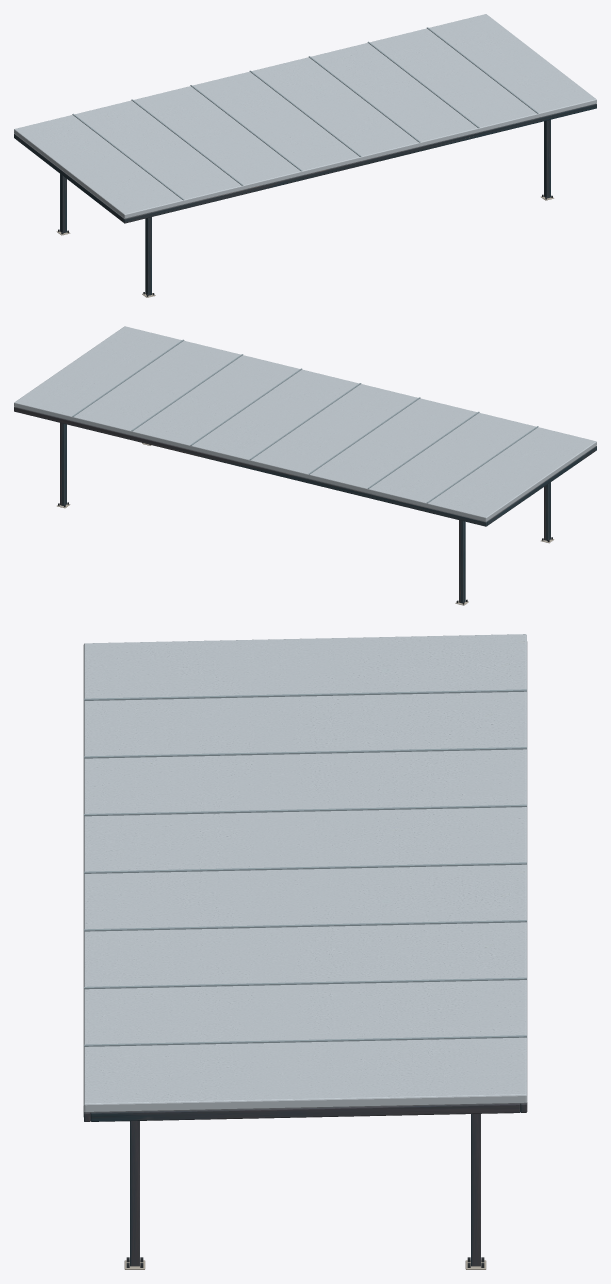
File: ch-canopy.glb
The picture shows the model from 3 angles, top to bottom: view 1: azimuth 30°, elevation 25°; view 2: azimuth 150°, elevation 25°; view 3: azimuth 270°, elevation 25°; orthographic projection. The views are drawn at different scales.
Visible parts, largest first — view 1: CanopyRoof, CanopyEdgeBeam_S, CanopyEdgeBeam_W, CanopyColumn_1, CanopyColumn_3, CanopyColumn_2; view 2: CanopyRoof, CanopyEdgeBeam_N, CanopyEdgeBeam_W, CanopyColumn_2, CanopyColumn_4, CanopyColumn_1; view 3: CanopyRoof, CanopyEdgeBeam_E, CanopyColumn_4, CanopyColumn_3, CanopyRoofSeam_3, CanopyRoofSeam_6, CanopyRoofSeam_4, CanopyRoofSeam_2, CanopyRoofSeam_5, CanopyRoofSeam_1, CanopyRoofSeam_7.
Boxes of the visible parts, x1,y1,x2,y2 form: CanopyRoof: (14, 14, 596, 218); CanopyEdgeBeam_S: (123, 104, 596, 223); CanopyEdgeBeam_W: (15, 135, 123, 221); CanopyColumn_1: (145, 217, 151, 295); CanopyColumn_3: (544, 119, 550, 198); CanopyColumn_2: (60, 174, 66, 233); CanopyRoof: (14, 326, 596, 521); CanopyEdgeBeam_N: (14, 407, 487, 526); CanopyEdgeBeam_W: (487, 447, 595, 525); CanopyColumn_2: (459, 520, 465, 603); CanopyColumn_4: (60, 423, 66, 505); CanopyColumn_1: (544, 482, 550, 540); CanopyRoof: (83, 634, 527, 1112); CanopyEdgeBeam_E: (90, 1103, 520, 1121); CanopyColumn_4: (471, 1114, 480, 1266); CanopyColumn_3: (130, 1121, 139, 1266); CanopyRoofSeam_3: (84, 804, 526, 816); CanopyRoofSeam_6: (84, 977, 526, 989); CanopyRoofSeam_4: (84, 862, 526, 873); CanopyRoofSeam_2: (84, 747, 526, 758); CanopyRoofSeam_5: (84, 920, 526, 931); CanopyRoofSeam_1: (84, 689, 526, 700); CanopyRoofSeam_7: (84, 1035, 526, 1046).
Bounding box in the file's own units: 16 × 3.37 × 6.5.
Materials: 5 (2 with a texture image).
